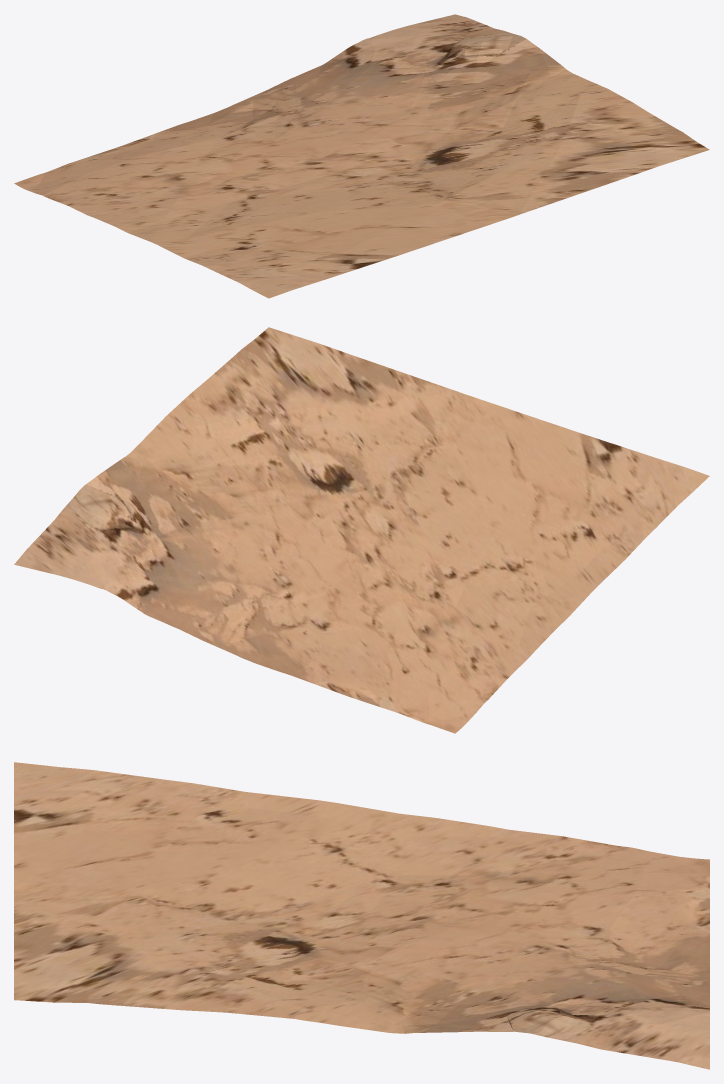
3 renders of one model, top to bottom at view 1: azimuth 30°, elevation 25°; view 2: azimuth 150°, elevation 25°; view 3: azimuth 270°, elevation 25°, orthographic. The views are drawn at different scales.
Bounding box in the file's own units: 1.04 × 0.2542 × 1.04.
Materials: 3 (3 with a texture image).
